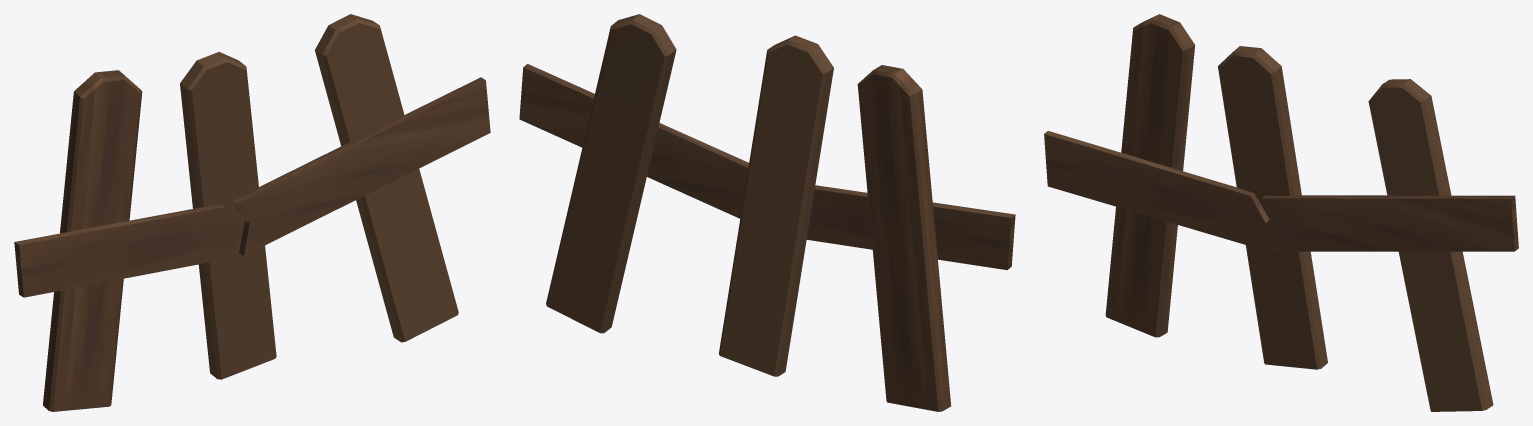
Rendered from Fence_Broken.fbx.
The picture shows the model from 3 angles, left to right: view 1: azimuth 30°, elevation 25°; view 2: azimuth 150°, elevation 25°; view 3: azimuth 330°, elevation 25°; orthographic projection. The views are drawn at different scales.
Visible parts, largest first — view 1: Axis_01, Axis_09, Axis_08, Axis_11, Axis_10; view 2: Axis_08, Axis_01, Axis_09, Axis_11, Axis_10; view 3: Axis_09, Axis_08, Axis_01, Axis_11, Axis_10.
Part boxes in pixels (bbox=[...]): Axis_01: bbox=[43, 70, 142, 411]; Axis_09: bbox=[315, 14, 458, 342]; Axis_08: bbox=[180, 52, 276, 379]; Axis_11: bbox=[231, 77, 490, 255]; Axis_10: bbox=[14, 204, 241, 297]; Axis_08: bbox=[719, 35, 833, 376]; Axis_01: bbox=[857, 65, 951, 411]; Axis_09: bbox=[546, 14, 676, 333]; Axis_11: bbox=[519, 64, 748, 218]; Axis_10: bbox=[806, 185, 1015, 270]; Axis_09: bbox=[1368, 79, 1493, 411]; Axis_08: bbox=[1218, 46, 1327, 369]; Axis_01: bbox=[1105, 14, 1195, 337]; Axis_11: bbox=[1261, 195, 1518, 251]; Axis_10: bbox=[1044, 131, 1269, 247].
Size of the model in its own units: 313 by 208 by 30.8.
